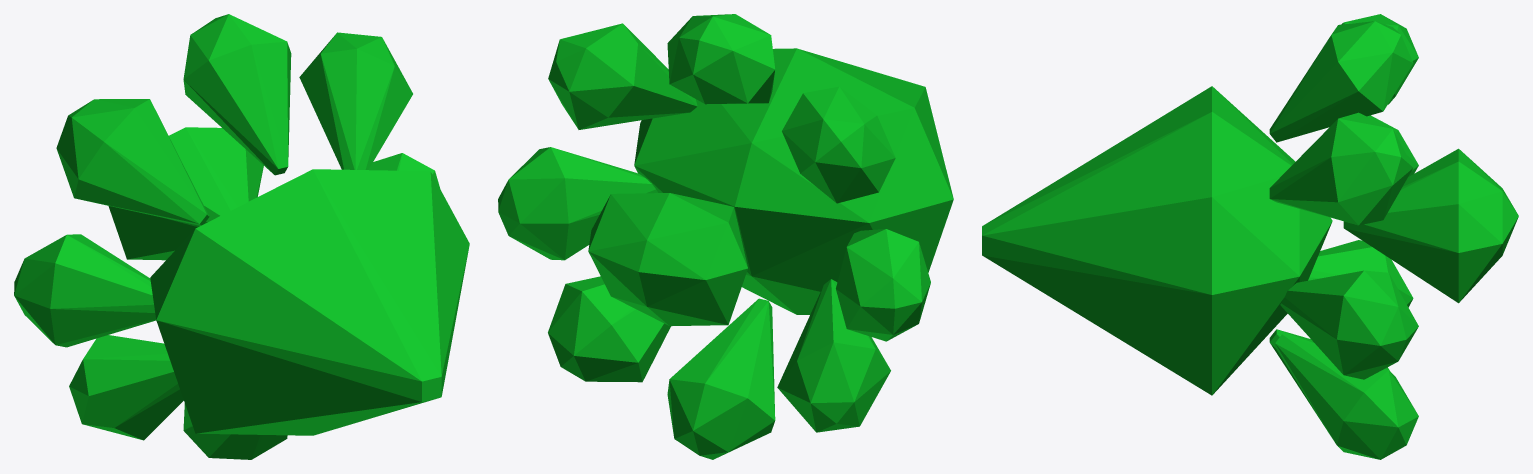
File: gfx_3.obj
The picture shows the model from 3 angles, left to right: view 1: azimuth 30°, elevation 25°; view 2: azimuth 150°, elevation 25°; view 3: azimuth 270°, elevation 25°; orthographic projection. The views are drawn at different scales.
Size of the model in its own units: 2.7 by 2.7 by 3.06.
